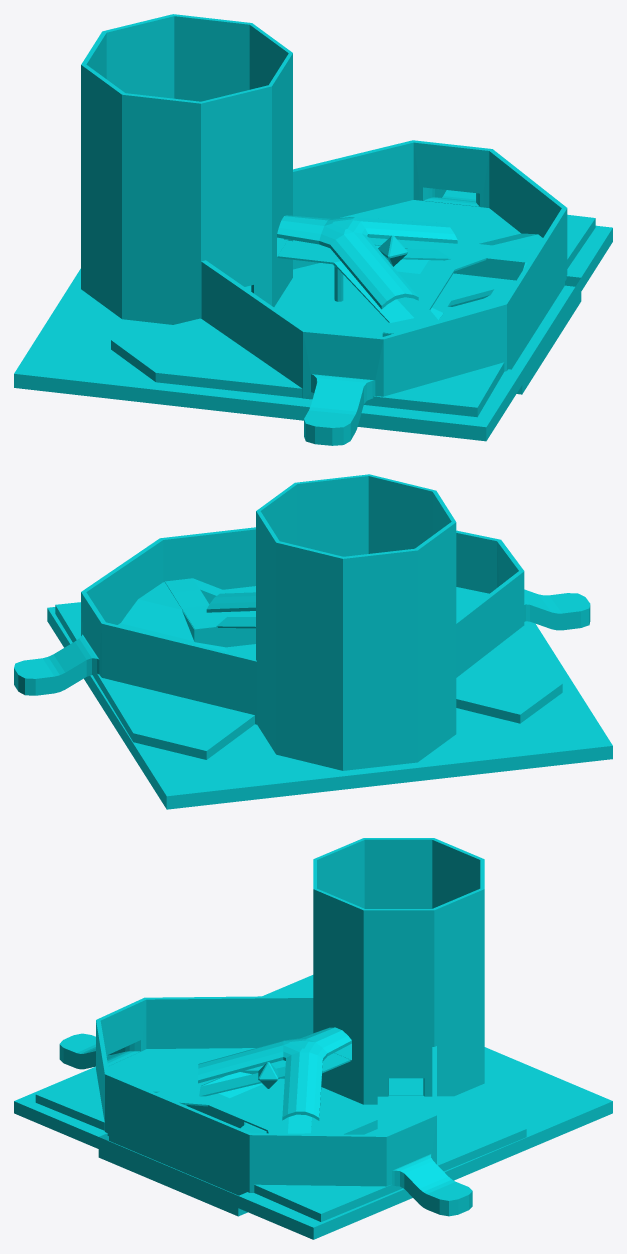
File: StadiumWhiteBlock5.fbx
3 renders of one model, top to bottom at view 1: azimuth 30°, elevation 25°; view 2: azimuth 150°, elevation 25°; view 3: azimuth 270°, elevation 25°, orthographic. The views are drawn at different scales.
Visible parts, largest first — view 1: Circle; view 2: Circle; view 3: Circle.
Part boxes in pixels (x1,y1,x2,y2): Circle: [14, 14, 612, 445]; Circle: [14, 474, 612, 809]; Circle: [14, 838, 612, 1239].
Size of the model in its own units: 34959 by 13846 by 34959.
